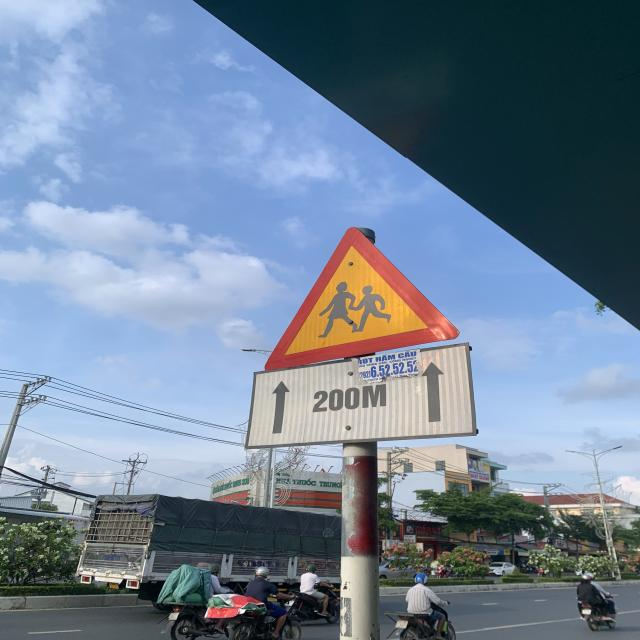Vong_Xuyen: (266, 227, 460, 371)
